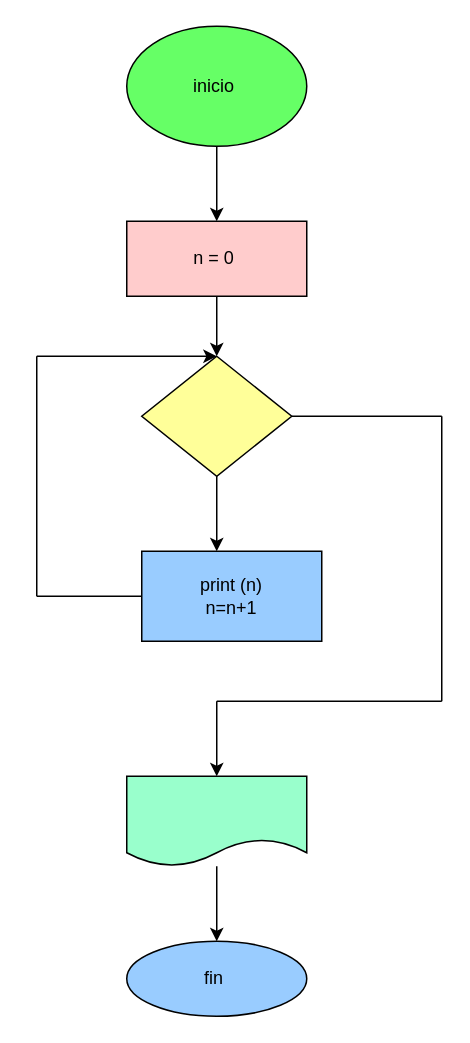
Image size: 470x1043. Some labels were removed from this diagram. Each missing label, with the centre of its shape:
"llegaste al límite del programa" goes at point 216,820.
"n< = 5" goes at point 216,415.
